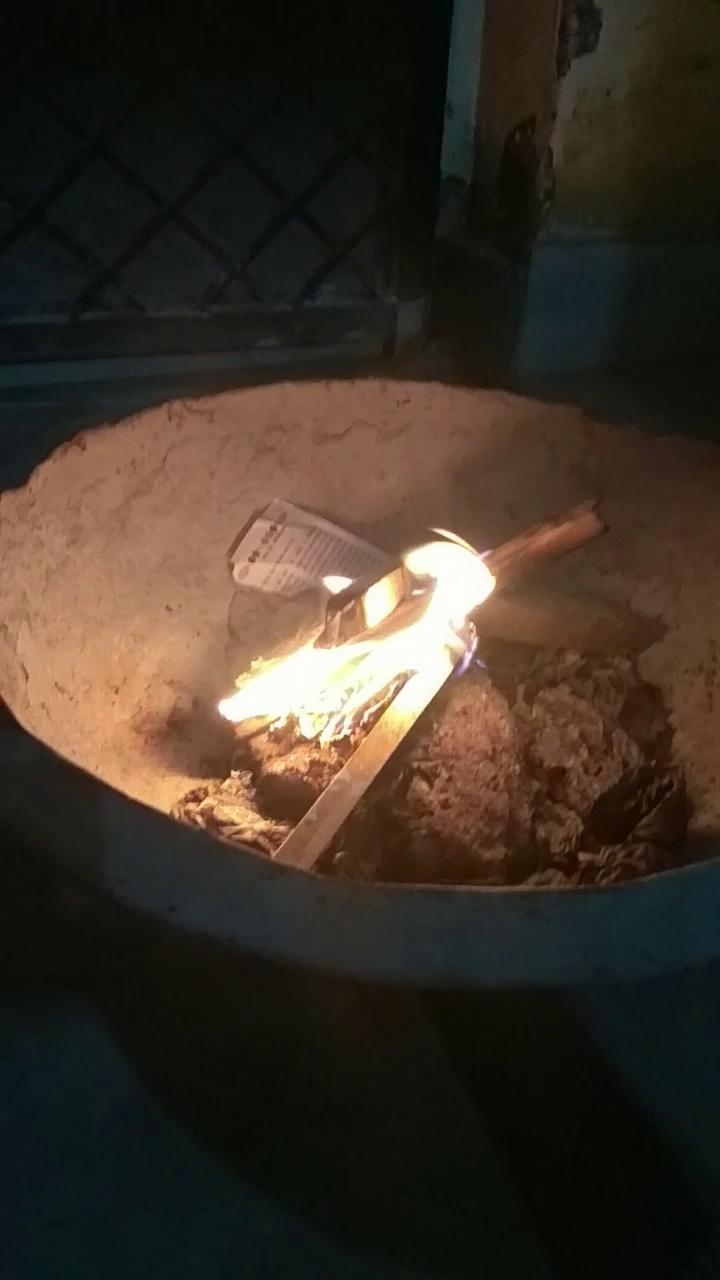fire: (222, 528, 507, 757)
